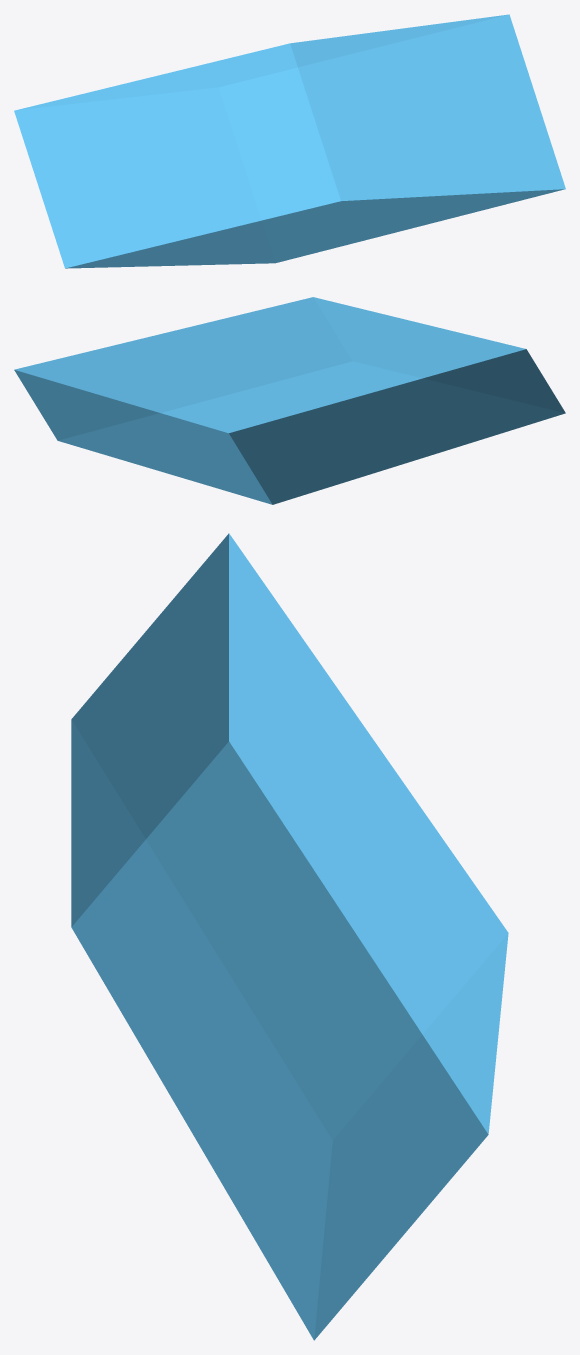
File: Event_421127236_HBrechit_39.fbx
The picture shows the model from 3 angles, top to bottom: view 1: azimuth 30°, elevation 25°; view 2: azimuth 150°, elevation 25°; view 3: azimuth 270°, elevation 25°; orthographic projection. The views are drawn at different scales.
Visible parts, largest first — view 1: Model; view 2: Model; view 3: Model.
Boxes of the visible parts, x1,y1,x2,y2 form: Model: [14, 14, 565, 268]; Model: [14, 297, 565, 504]; Model: [71, 533, 508, 1340].
Bounding box in the file's own units: 1.6 × 0.6589 × 0.6781.
